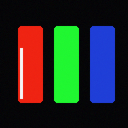4 line_v: (20, 48, 22, 98)
